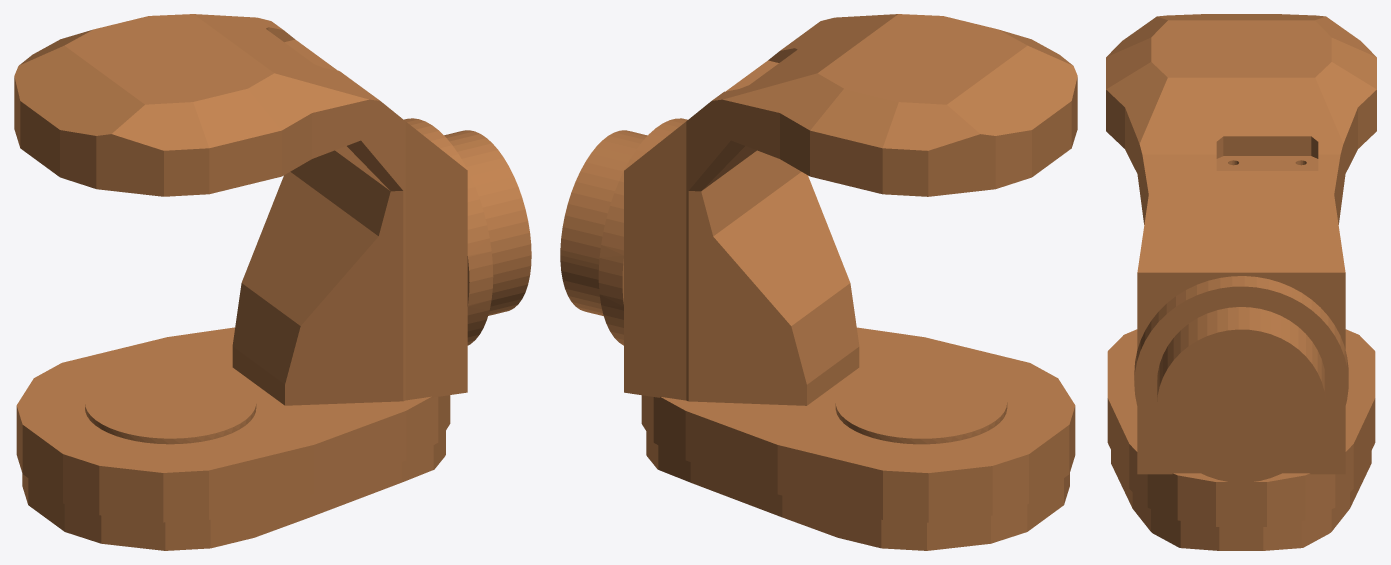
The picture shows the model from 3 angles, left to right: view 1: azimuth 30°, elevation 25°; view 2: azimuth 150°, elevation 25°; view 3: azimuth 270°, elevation 25°; orthographic projection. The views are drawn at different scales.
Parts seen in each view (by area): view 1: /Link_5/Link_5_001-mesh/0; view 2: /Link_5/Link_5_001-mesh/0; view 3: /Link_5/Link_5_001-mesh/0.
Boxes of the visible parts, left/top/right/bottom form: /Link_5/Link_5_001-mesh/0: left=14, top=14, right=531, bottom=550; /Link_5/Link_5_001-mesh/0: left=560, top=14, right=1077, bottom=550; /Link_5/Link_5_001-mesh/0: left=1106, top=14, right=1376, bottom=550.
Bounding box in the file's own units: 0.207 × 0.2001 × 0.12.
